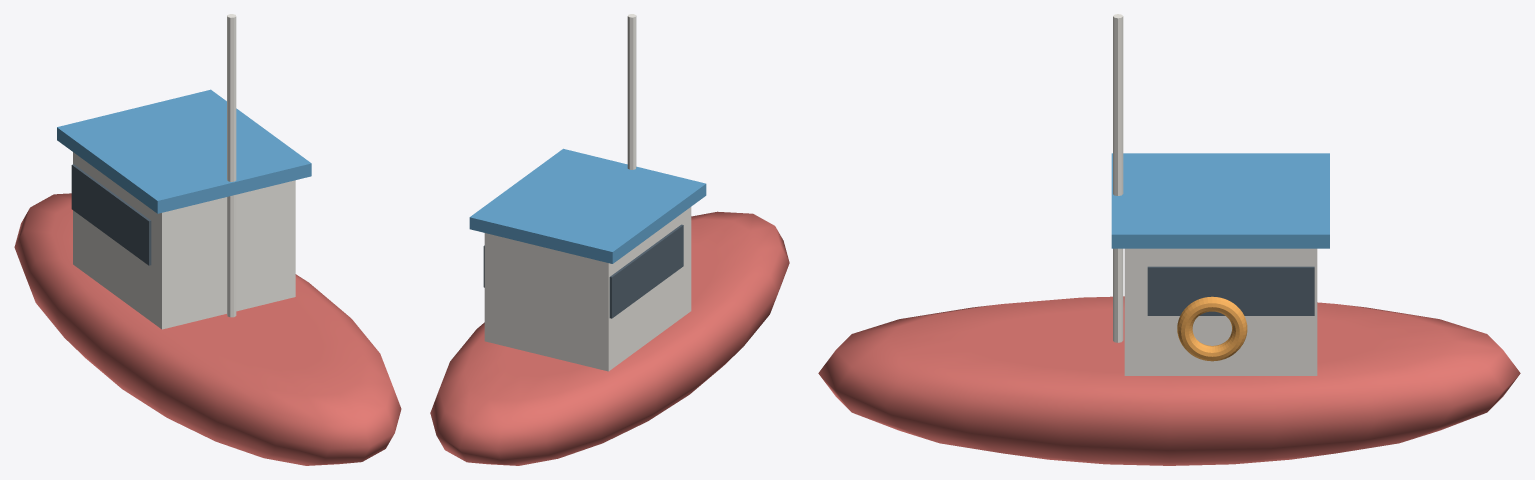
File: Boat_FishingBoat.fbx
3 renders of one model, left to right at view 1: azimuth 30°, elevation 25°; view 2: azimuth 150°, elevation 25°; view 3: azimuth 270°, elevation 25°, orthographic. The views are drawn at different scales.
Parts seen in each view (by area): view 1: Sphere, Cube, Cube.001, Cube.002, Cylinder; view 2: Sphere, Cube, Cube.001, Cube.002, Cylinder; view 3: Sphere, Cube.001, Cube, Cube.002, Cylinder, Torus.
Part boxes in pixels (x1,y1,x2,y2): Sphere: (14, 193, 401, 465); Cube: (73, 152, 295, 329); Cube.001: (57, 89, 311, 213); Cube.002: (71, 164, 151, 265); Cylinder: (227, 14, 236, 317); Sphere: (430, 211, 789, 465); Cube: (484, 207, 691, 371); Cube.001: (469, 148, 706, 263); Cube.002: (483, 224, 683, 318); Cylinder: (627, 14, 636, 169); Sphere: (818, 296, 1520, 465); Cube.001: (1111, 153, 1329, 248); Cube: (1124, 248, 1317, 375); Cube.002: (1147, 266, 1314, 315); Cylinder: (1113, 14, 1123, 342); Torus: (1177, 296, 1247, 361).
Size of the model in its own units: 3.1 by 5.55 by 8.2.
